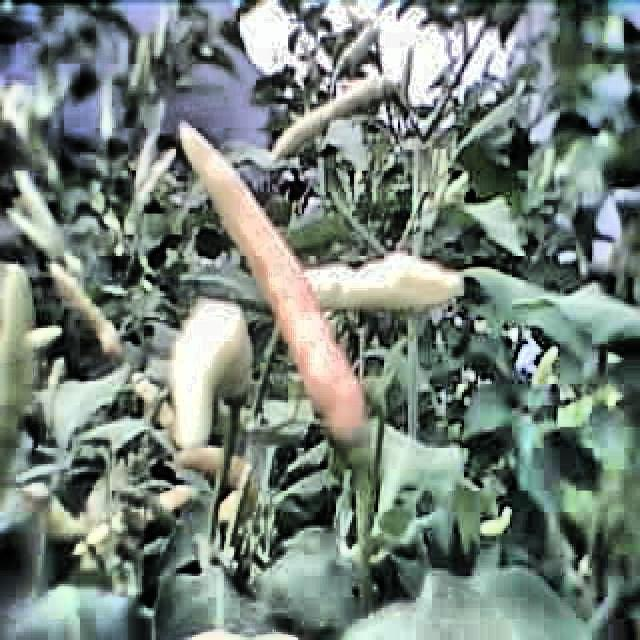Cabai: (191, 122, 379, 431)
